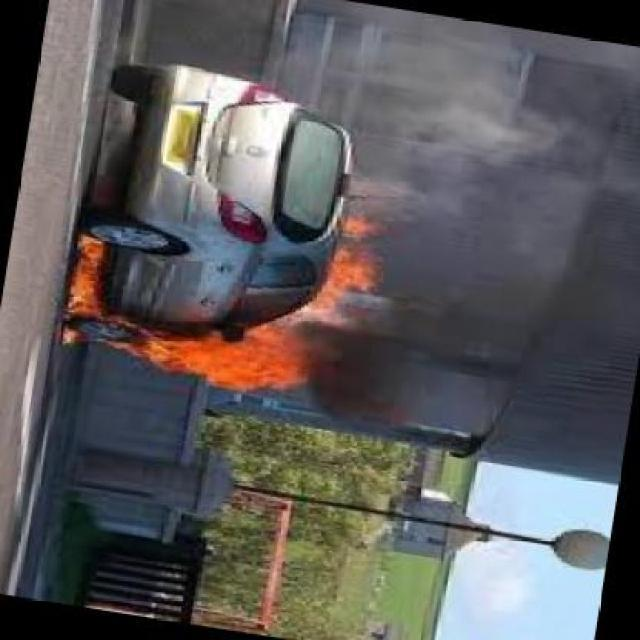Fire: (110, 316, 294, 392), (317, 221, 383, 316), (64, 232, 102, 332)
Smoke: (366, 42, 636, 291)
